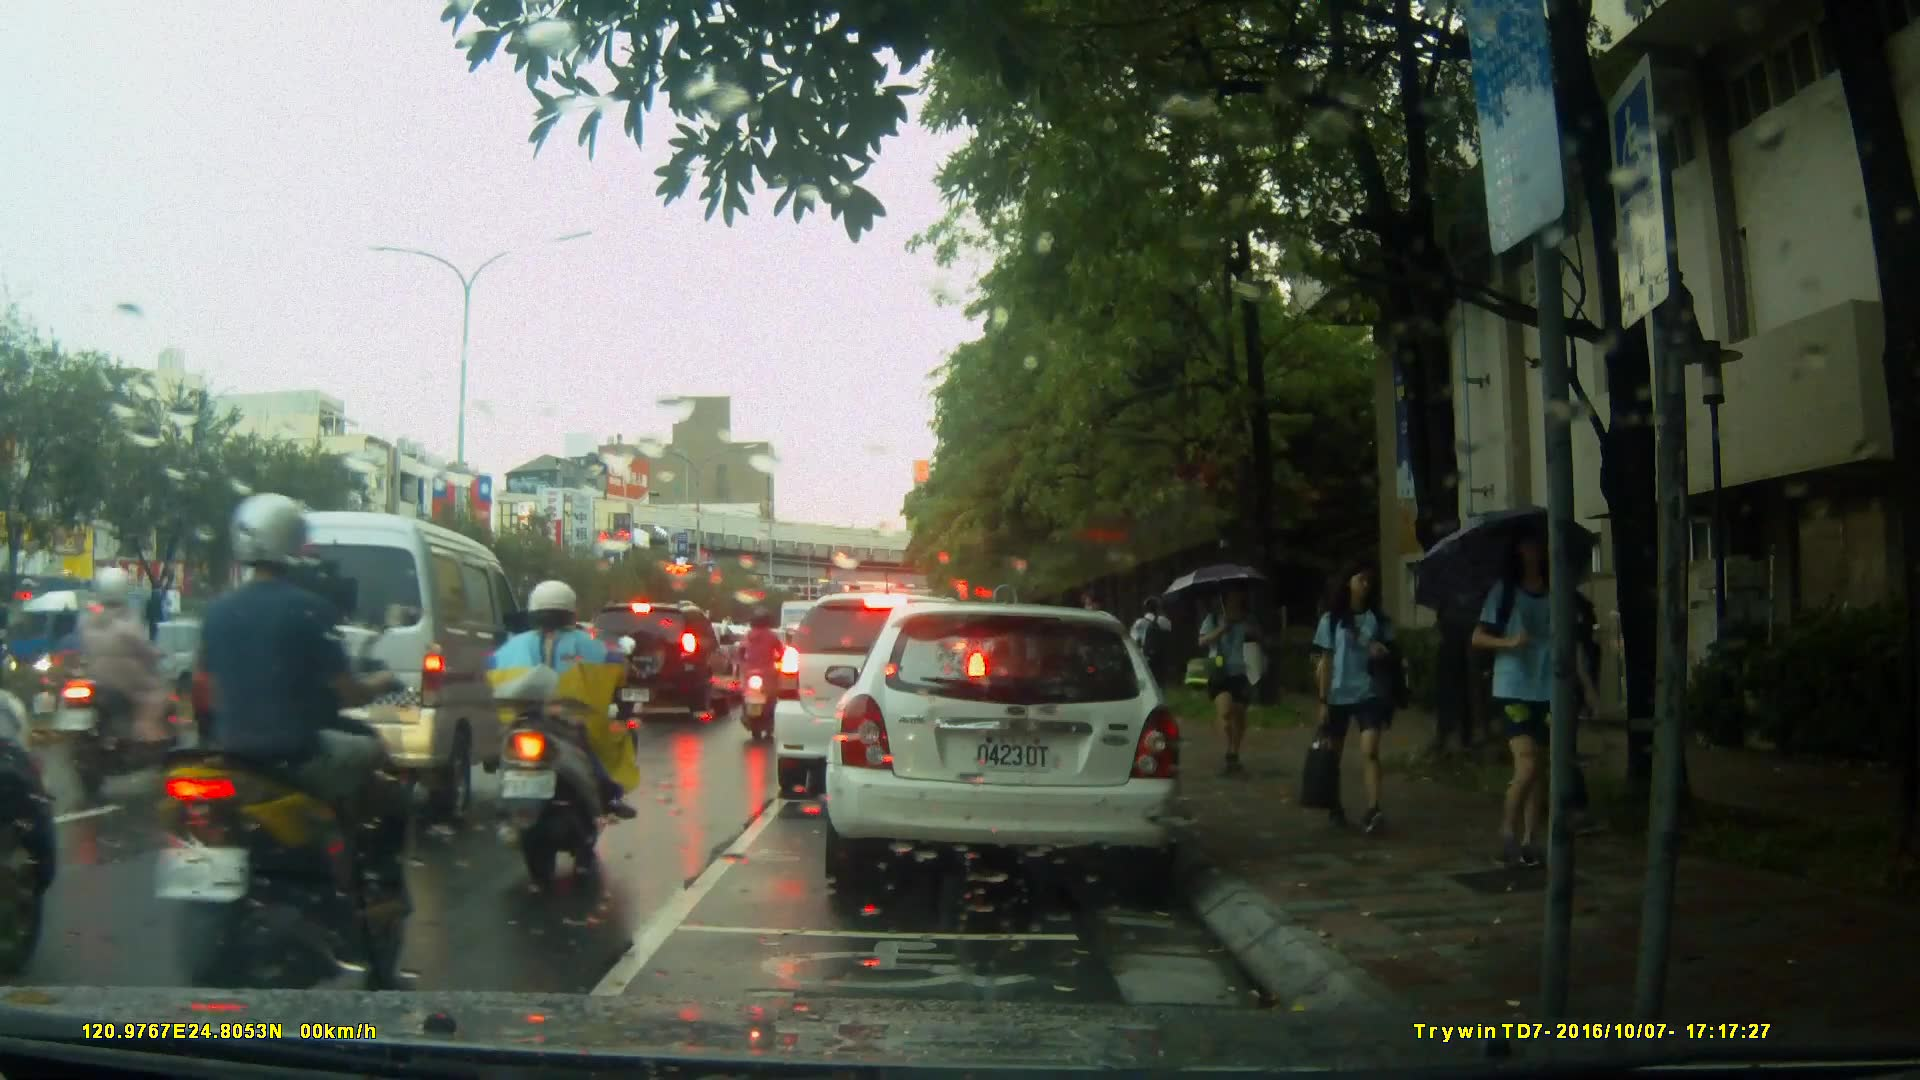pedestrian: (1446, 525, 1590, 883), (1514, 534, 1621, 850), (1302, 553, 1402, 848), (1184, 576, 1260, 783)
rider: (148, 492, 413, 1011), (481, 579, 638, 888), (56, 563, 202, 798), (733, 604, 788, 739)
vehicle: (815, 593, 1204, 909), (208, 509, 528, 830), (770, 590, 994, 802), (577, 603, 737, 725)
